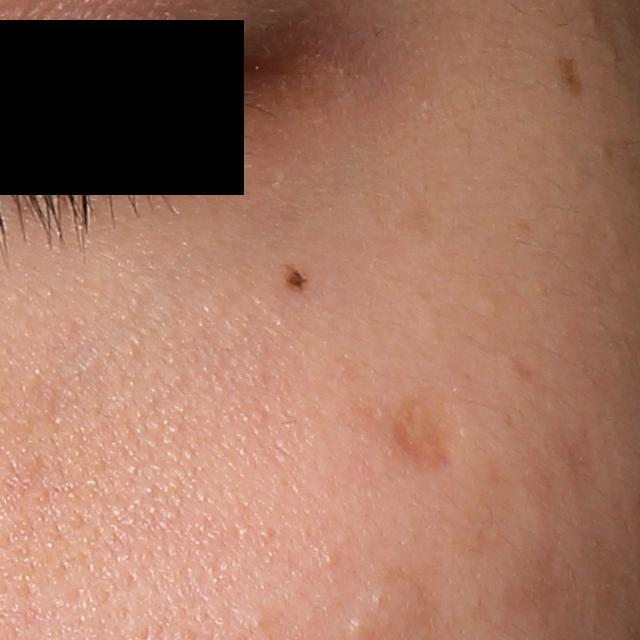comedo: (347, 614, 367, 638)
melasma: (388, 390, 450, 477), (557, 52, 582, 102)
nevus: (284, 259, 307, 293)
